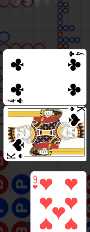4C: (6, 97, 24, 105)
9H: (31, 175, 38, 191)
